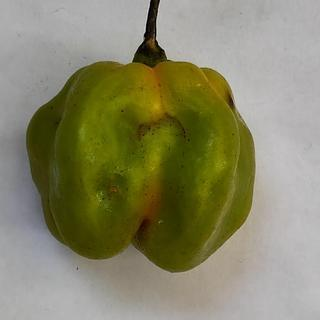Defect: (126, 108, 198, 146), (126, 214, 151, 250), (220, 82, 241, 119)
